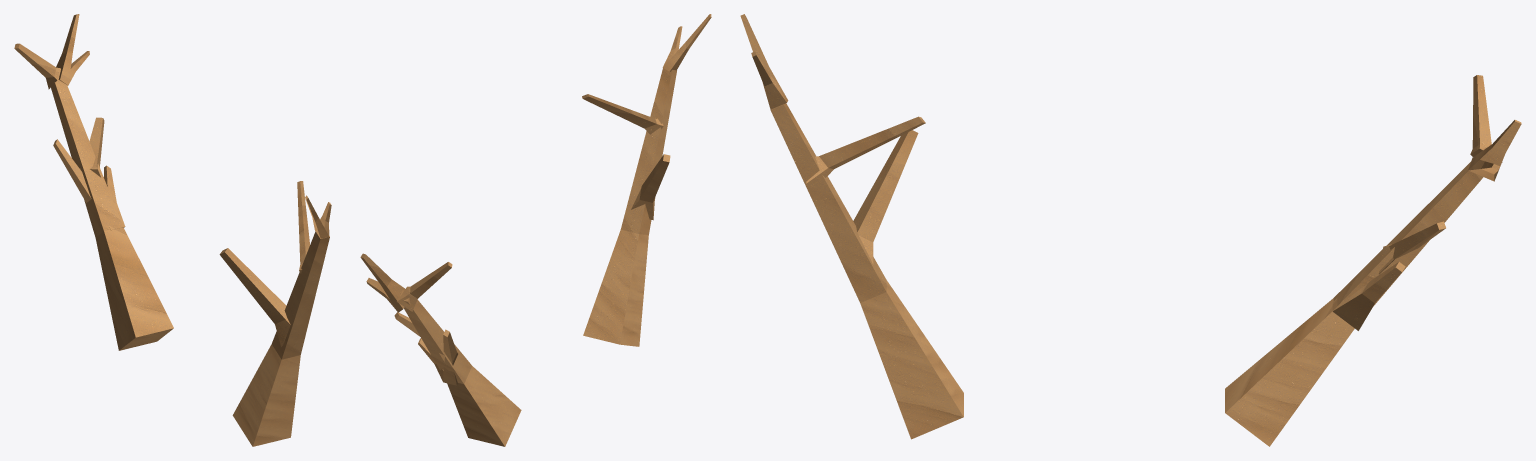
File: Antlers.obj
3 renders of one model, left to right at view 1: azimuth 30°, elevation 25°; view 2: azimuth 150°, elevation 25°; view 3: azimuth 270°, elevation 25°, orthographic. The views are drawn at different scales.
Parts seen in each view (by area): view 1: tree_branchLong, tree_branchLongBend, tree_branchLongSplit; view 2: tree_branchLong, tree_branchLongBend, tree_branchLongSplit; view 3: tree_branchLong, tree_branchLongBend, tree_branchLongSplit.
Boxes of the visible parts, <box> form: tree_branchLong: <box>51,69,329,446</box>; tree_branchLongBend: <box>14,43,309,346</box>; tree_branchLongSplit: <box>53,14,331,238</box>; tree_branchLong: <box>400,68,676,446</box>; tree_branchLongBend: <box>394,94,670,361</box>; tree_branchLongSplit: <box>360,14,711,385</box>; tree_branchLong: <box>770,103,1483,446</box>; tree_branchLongBend: <box>806,75,1502,274</box>; tree_branchLongSplit: <box>740,14,1521,330</box>.
Bounding box in the file's own units: 0.3551 × 1.14 × 2.02.
2 materials, 2 textured.
